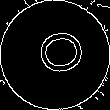O_W: (26, 29, 84, 81)
